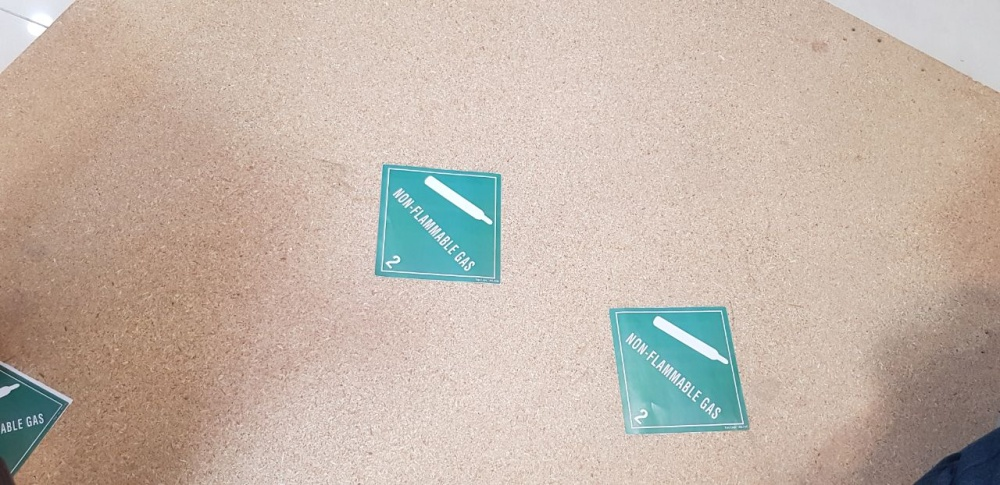non-flammable-gas: (609, 297, 744, 432), (379, 163, 499, 283)
